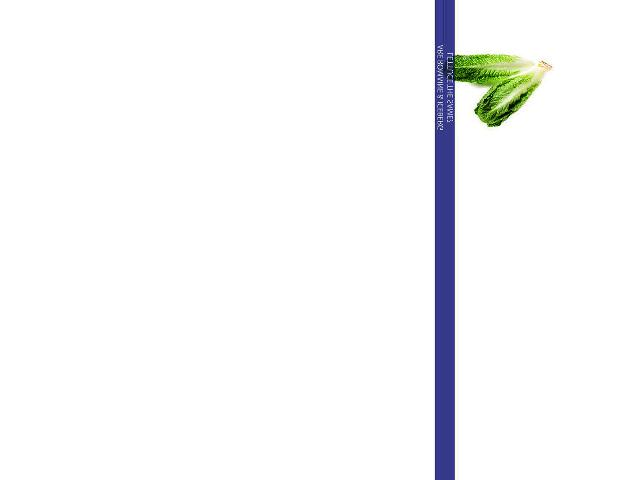lettuce: (468, 57, 551, 125)
